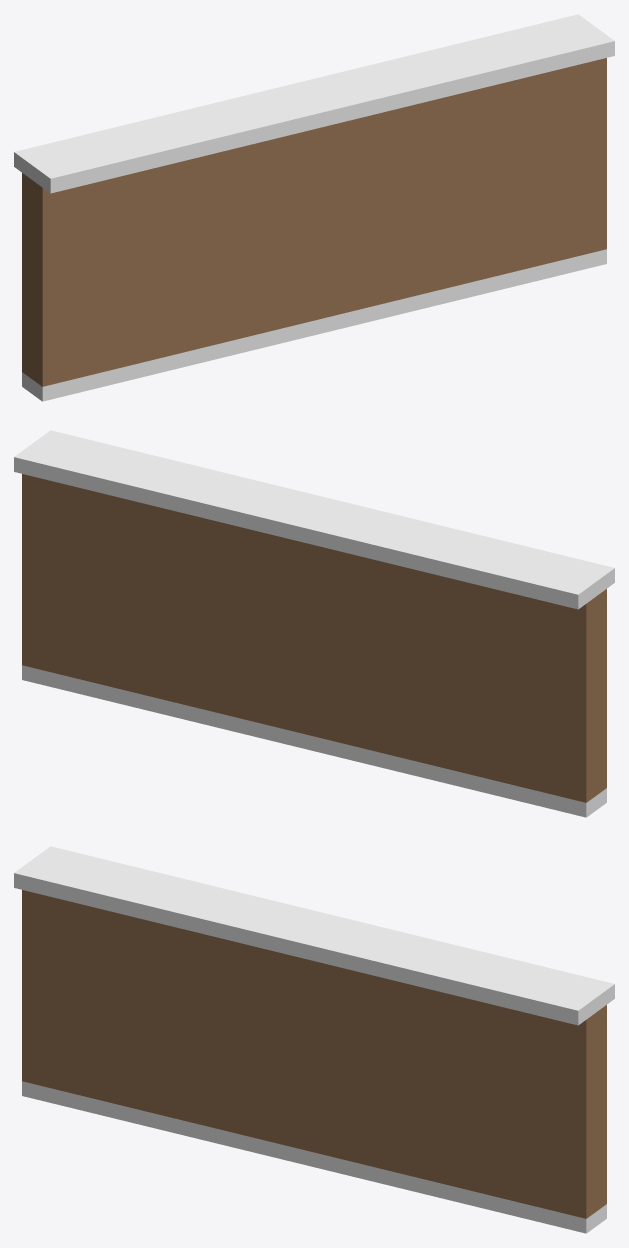
File: SM_400x150_HalfWall.fbx
3 views of the same model, one above another, from view 1: azimuth 30°, elevation 25°; view 2: azimuth 150°, elevation 25°; view 3: azimuth 330°, elevation 25° (orthographic).
Parts seen in each view (by area): view 1: SM_400x150_HalfWall; view 2: SM_400x150_HalfWall; view 3: SM_400x150_HalfWall.
Boxes of the visible parts, x1,y1,x2,y2 form: SM_400x150_HalfWall: [14, 14, 614, 401]; SM_400x150_HalfWall: [14, 430, 614, 817]; SM_400x150_HalfWall: [14, 846, 614, 1233].
Size of what is drawn, in the model's own units: 400 by 45 by 155.
